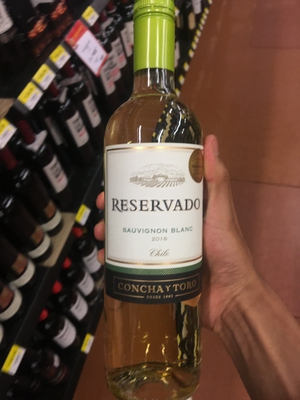reservado sauvignon blanc: (104, 6, 214, 359)
